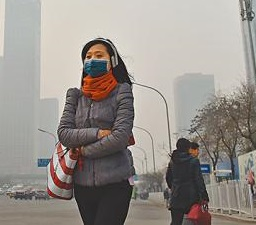person: (46, 36, 142, 225), (164, 136, 215, 225)
